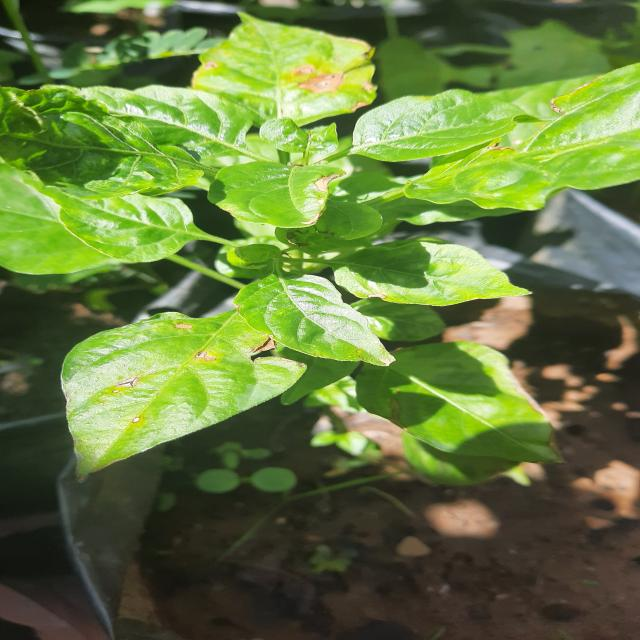bercak_daun: (74, 310, 307, 422)
